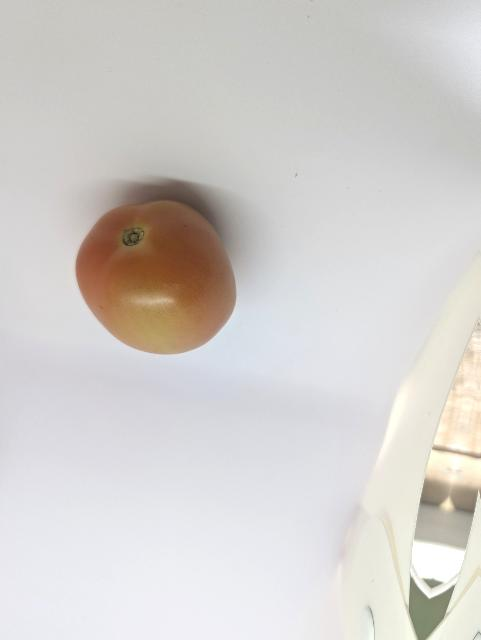turning: (68, 194, 254, 364)
